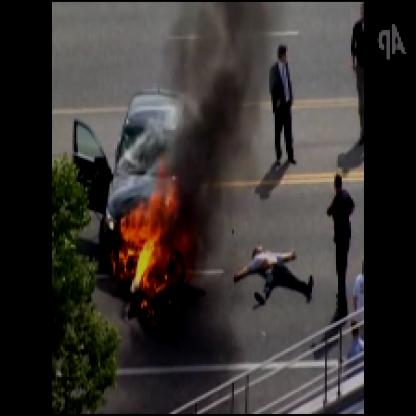Fire: (113, 149, 201, 323)
Smoke: (166, 2, 270, 256)
